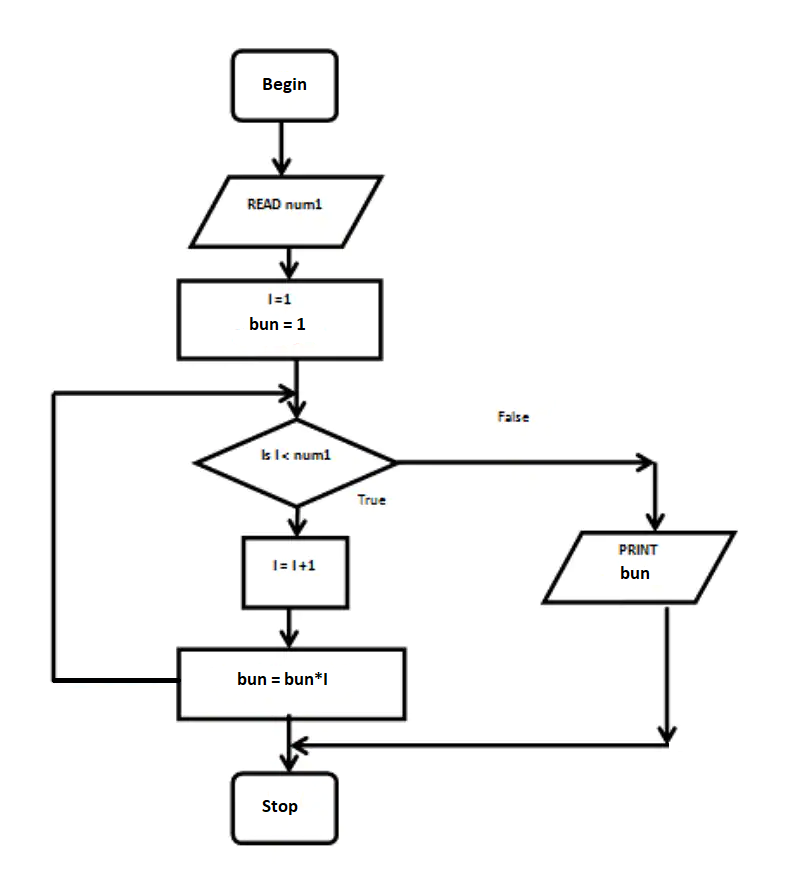arrow: (42, 381, 297, 690), (285, 729, 672, 757), (387, 452, 658, 475), (654, 600, 681, 748), (643, 463, 670, 533), (269, 118, 296, 181), (284, 360, 310, 423), (278, 711, 301, 776), (273, 246, 305, 284), (284, 500, 311, 541), (276, 610, 304, 649)
data: (538, 527, 742, 609), (183, 172, 389, 252)
decision: (189, 417, 401, 507)
process: (173, 642, 410, 725), (173, 273, 385, 363), (237, 533, 354, 614), (226, 769, 343, 849), (226, 45, 341, 126)
text: (247, 291, 315, 336), (615, 538, 661, 583), (231, 671, 333, 688), (242, 195, 324, 214), (257, 446, 341, 464), (257, 73, 311, 96), (268, 554, 319, 575), (257, 795, 301, 818), (493, 406, 534, 425), (355, 488, 392, 509)
